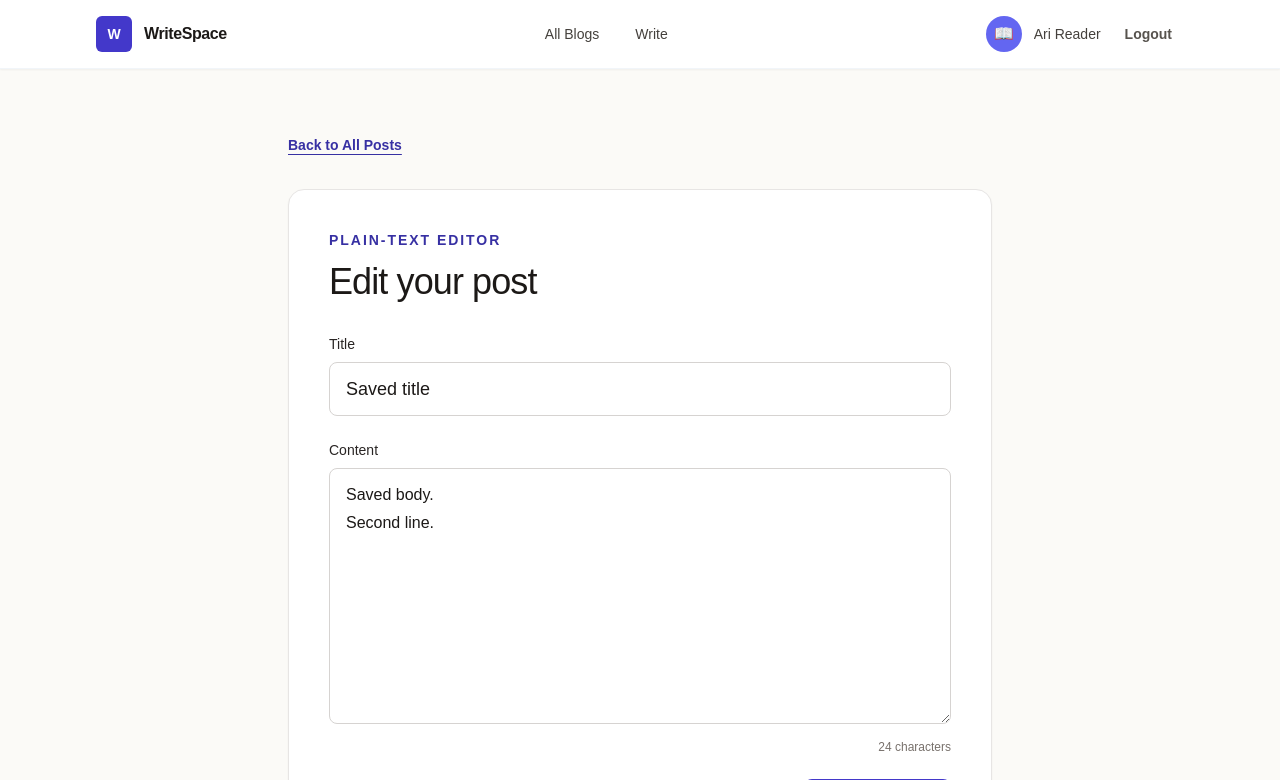
it: post editor › prefills an edit, saves changes without duplicating, and retains author metadata
Replace the text in the field labelled "Title" with "Updated title": (640, 389) 329,362 -> 951,416
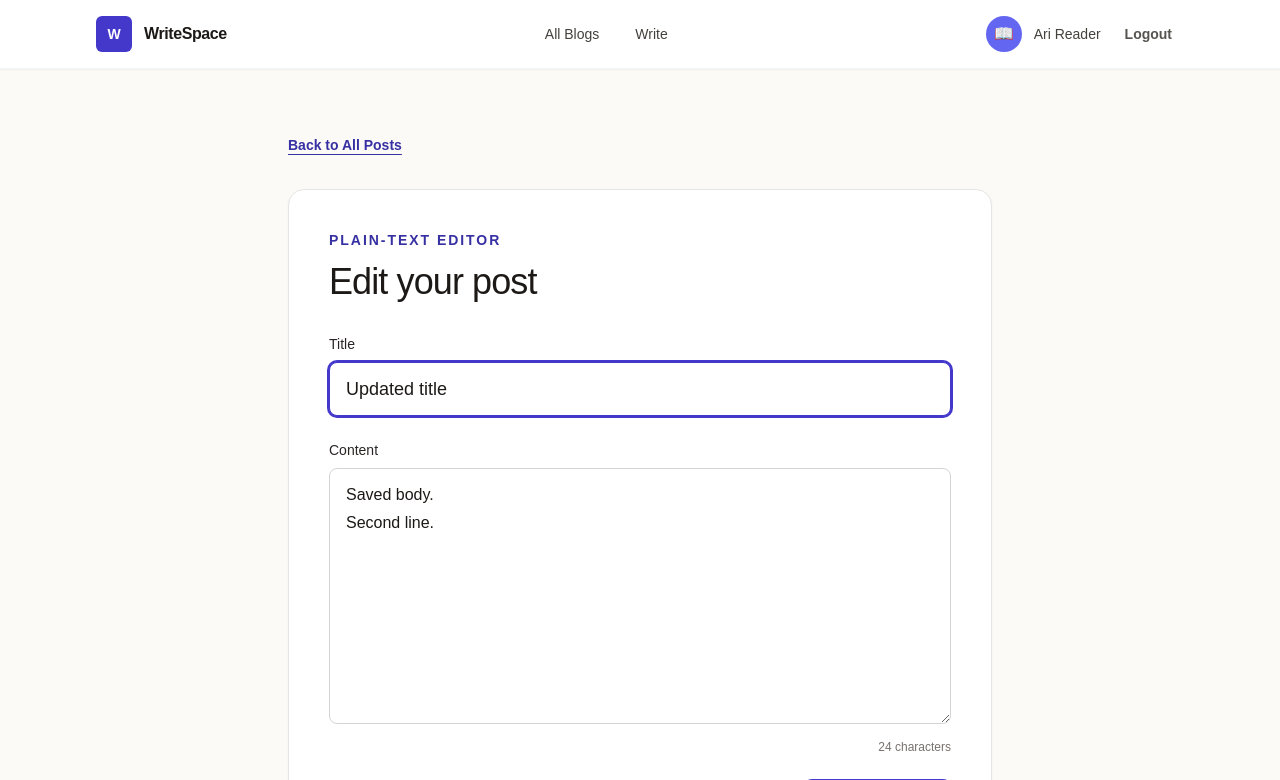
Replace the text in the text box labelled "Content" with "Updated body.": (640, 596) 329,468 -> 951,724
(page scrolled)
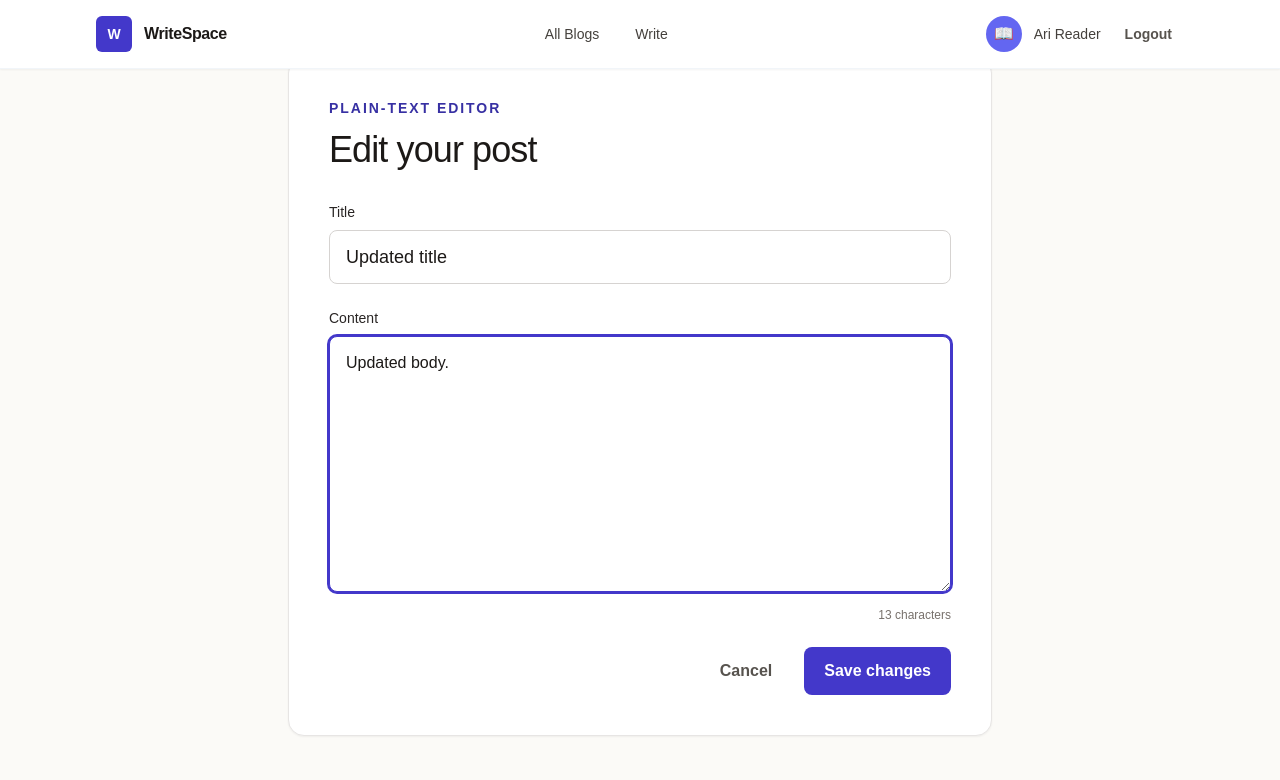
Click the button "Save changes": (878, 671) 804,647 -> 951,695
(page scrolled)
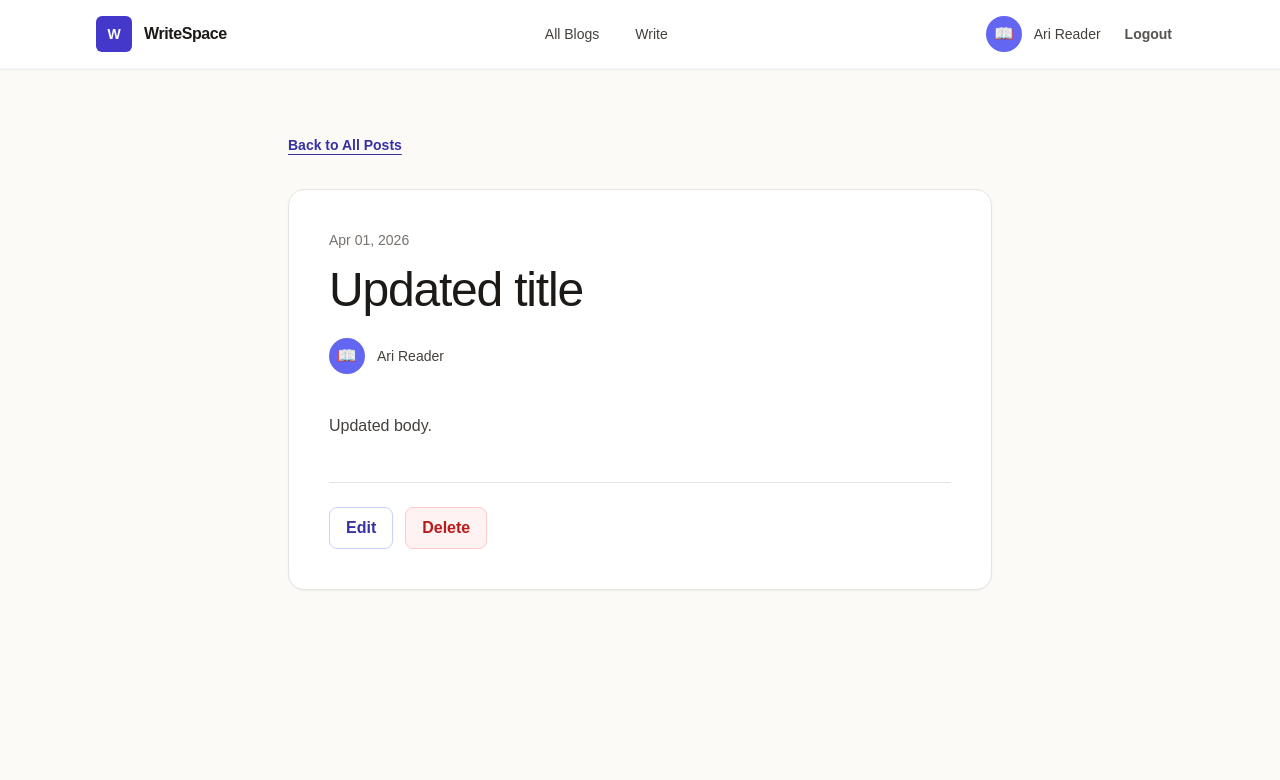
Expected: the heading "Updated title" is shown, 329,263 -> 583,316
